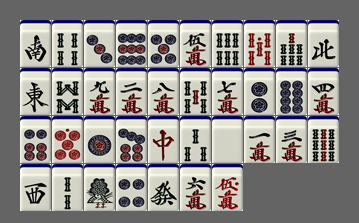0m: (212, 164, 243, 211)
0p: (52, 116, 83, 163)
0s: (244, 20, 275, 67)
1m: (244, 116, 275, 163)
1p: (84, 116, 115, 163)
1s: (84, 164, 115, 211)
1z: (20, 68, 51, 115)
2m: (116, 68, 147, 115)
2p: (244, 68, 275, 115)
2s: (52, 164, 83, 211)
2z: (20, 20, 51, 67)
3m: (276, 116, 307, 163)
3p: (84, 20, 115, 67)
3s: (180, 116, 211, 163)
3z: (20, 164, 51, 211)
4m: (308, 68, 339, 115)
4p: (116, 164, 147, 211)
4s: (52, 20, 83, 67)
4z: (308, 20, 339, 67)
5m: (180, 20, 211, 67)
5p: (148, 20, 179, 67)
5s: (180, 68, 211, 115)
5z: (212, 116, 243, 163)
6m: (180, 164, 211, 211)
6p: (20, 116, 51, 163)
6s: (212, 20, 243, 67)
6z: (148, 164, 179, 211)
7m: (212, 68, 243, 115)
7p: (116, 116, 147, 163)
7s: (276, 20, 307, 67)
7z: (148, 116, 179, 163)
8m: (148, 68, 179, 115)
8p: (276, 68, 307, 115)
8s: (52, 68, 83, 115)
9m: (84, 68, 115, 115)
9p: (116, 20, 147, 67)
9s: (308, 116, 339, 163)
